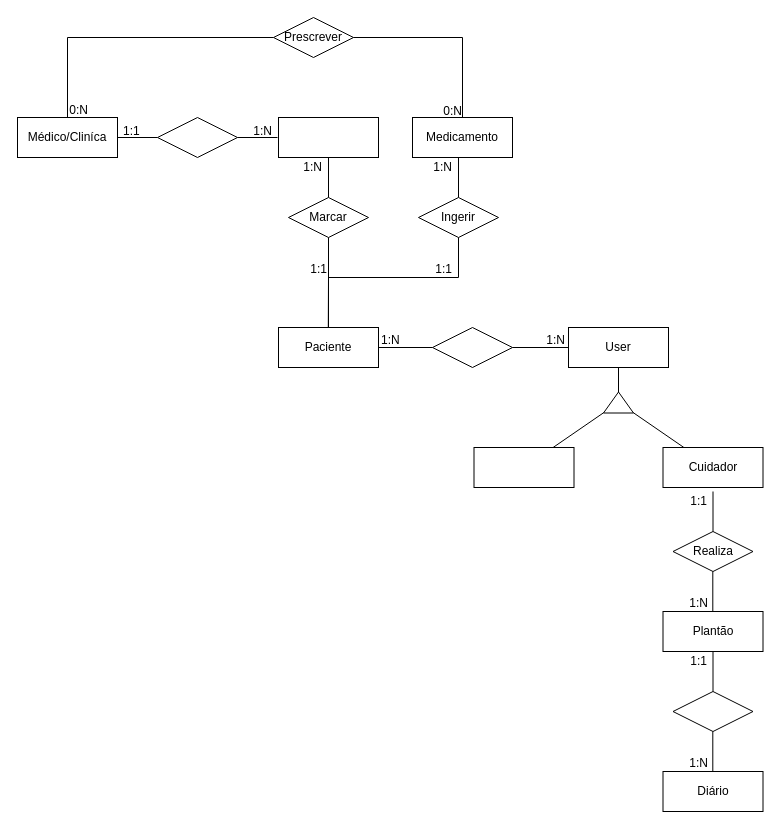
The diagram is 781 pixels wide and 829 high, and some of its shapes have lost their labels. The shapes that lost their labels are listed below. From the top down, each one's centre as x and y in pixels, then its label:
At (x=197, y=137): "Pertence".
At (x=328, y=137): "Consulta".
At (x=472, y=347): "Gerencia".
At (x=523, y=467): "Familiar".
At (x=712, y=711): "Possui".
